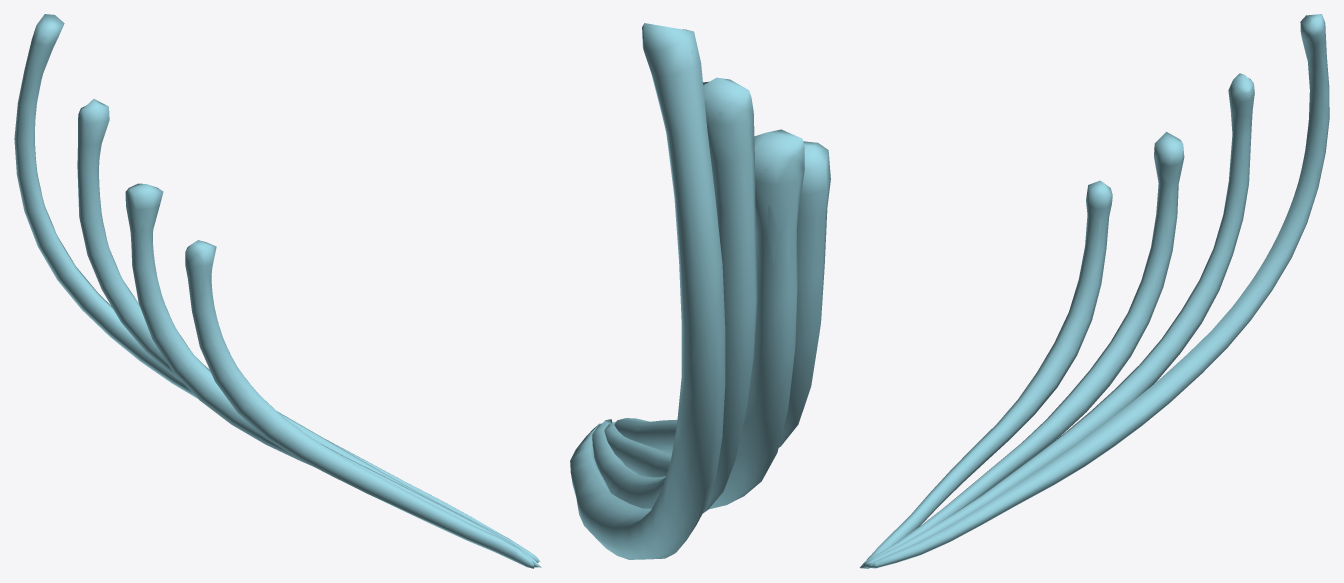
Rendered from Costal Cartilage Right.fbx.
3 renders of one model, left to right at view 1: azimuth 30°, elevation 25°; view 2: azimuth 150°, elevation 25°; view 3: azimuth 270°, elevation 25°, orthographic. The views are drawn at different scales.
Parts seen in each view (by area): view 1: Costal Cartilage Right low, Costal Cartilage Right; view 2: Costal Cartilage Right low, Costal Cartilage Right; view 3: Costal Cartilage Right low, Costal Cartilage Right.
Boxes of the visible parts, x1,y1,x2,y2 form: Costal Cartilage Right low: [14, 14, 541, 568]; Costal Cartilage Right: [22, 23, 536, 567]; Costal Cartilage Right low: [570, 23, 830, 559]; Costal Cartilage Right: [574, 50, 827, 550]; Costal Cartilage Right low: [860, 14, 1329, 568]; Costal Cartilage Right: [873, 20, 1327, 565].
Bounding box in the file's own units: 3.85 × 5.61 × 5.51.
